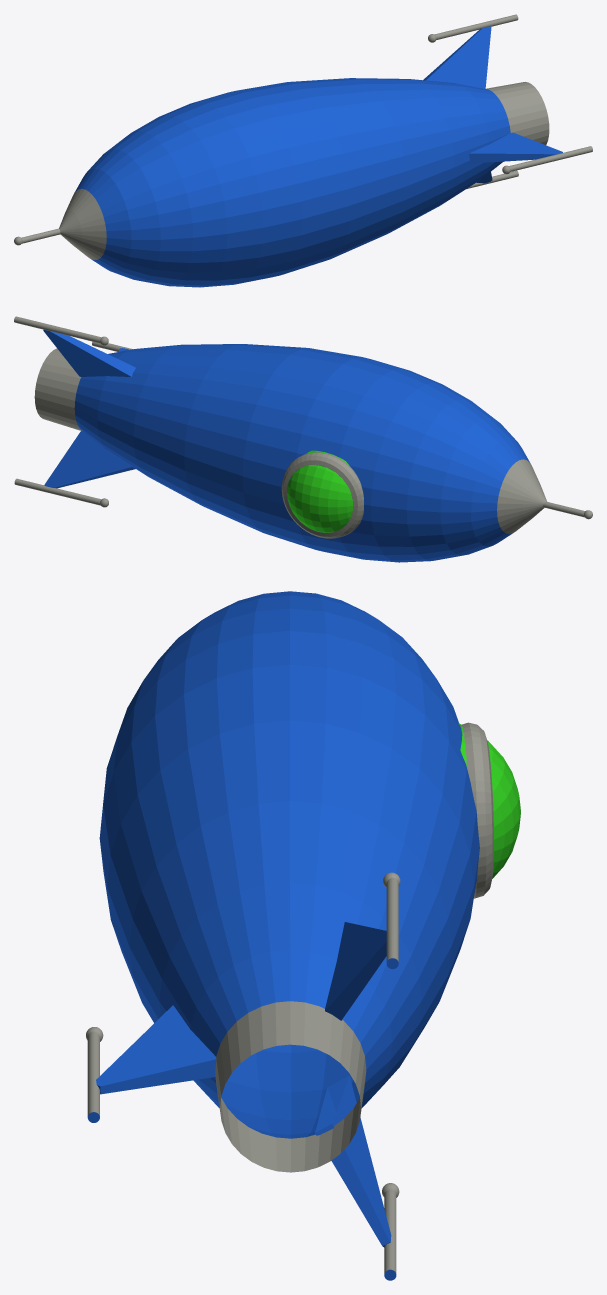
Rendered from Rocket.fbx.
3 views of the same model, one above another, from view 1: azimuth 30°, elevation 25°; view 2: azimuth 150°, elevation 25°; view 3: azimuth 270°, elevation 25° (orthographic). The views are drawn at different scales.
Visible parts, largest first — view 1: Rocket; view 2: Rocket; view 3: Rocket.
Part boxes in pixels (x1=…): Rocket: x1=14, y1=14, x2=592, y2=287; Rocket: x1=14, y1=316, x2=592, y2=562; Rocket: x1=86, y1=591, x2=520, y2=1280.
Bounding box in the file's own units: 638 × 200 × 228.
